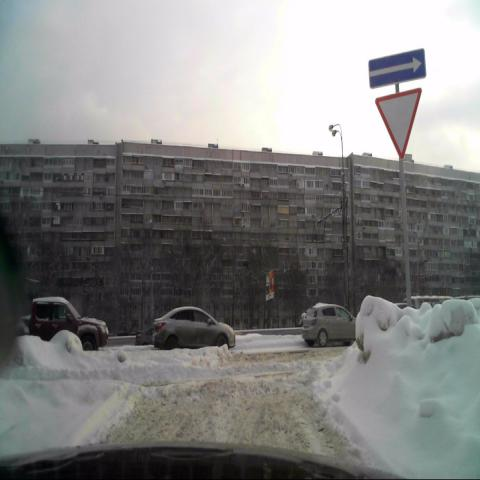5_7_1: (368, 48, 426, 88)
